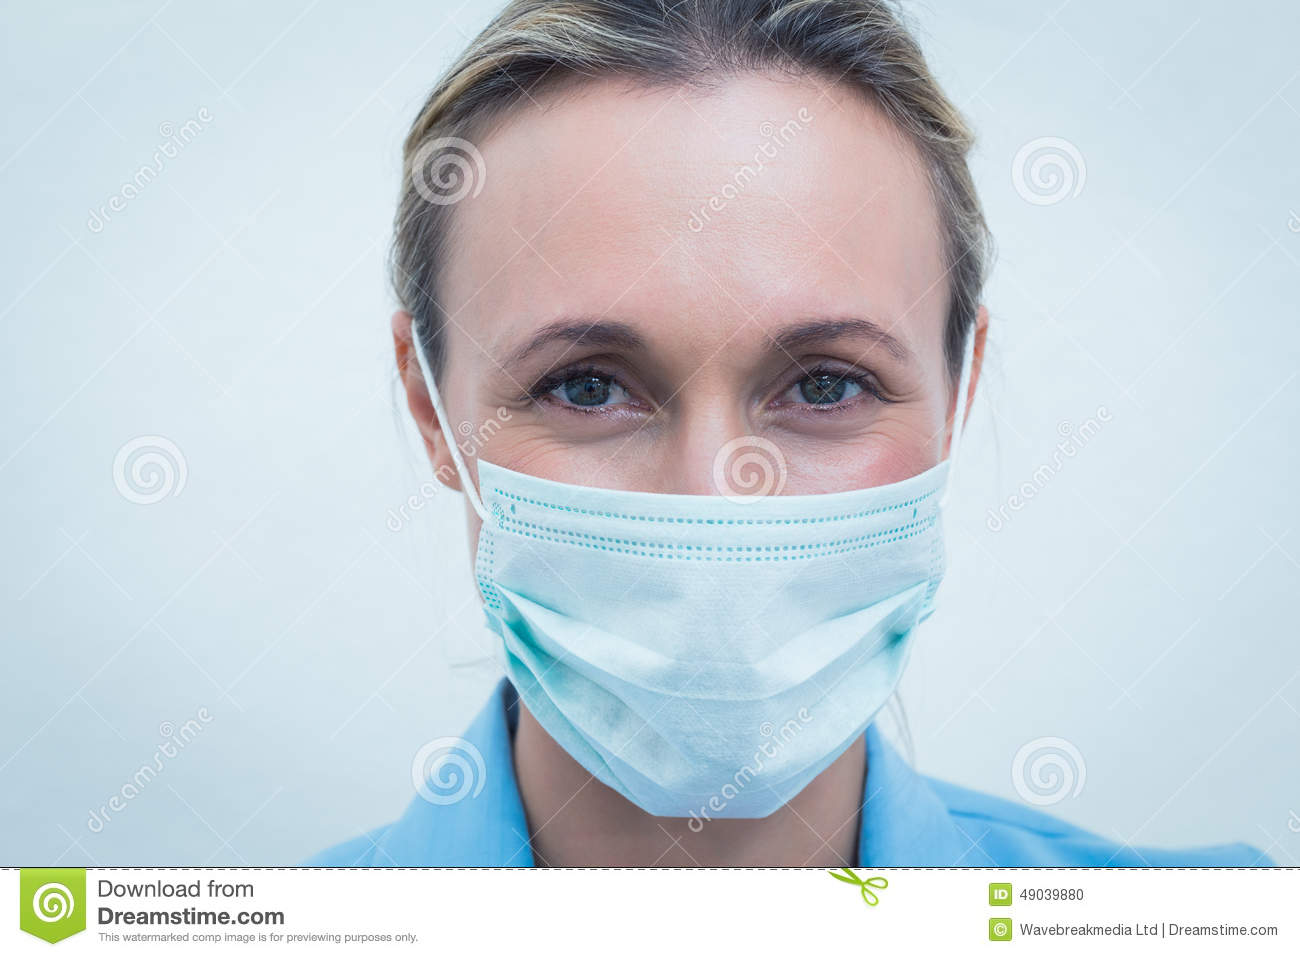mask: (467, 460, 957, 797)
